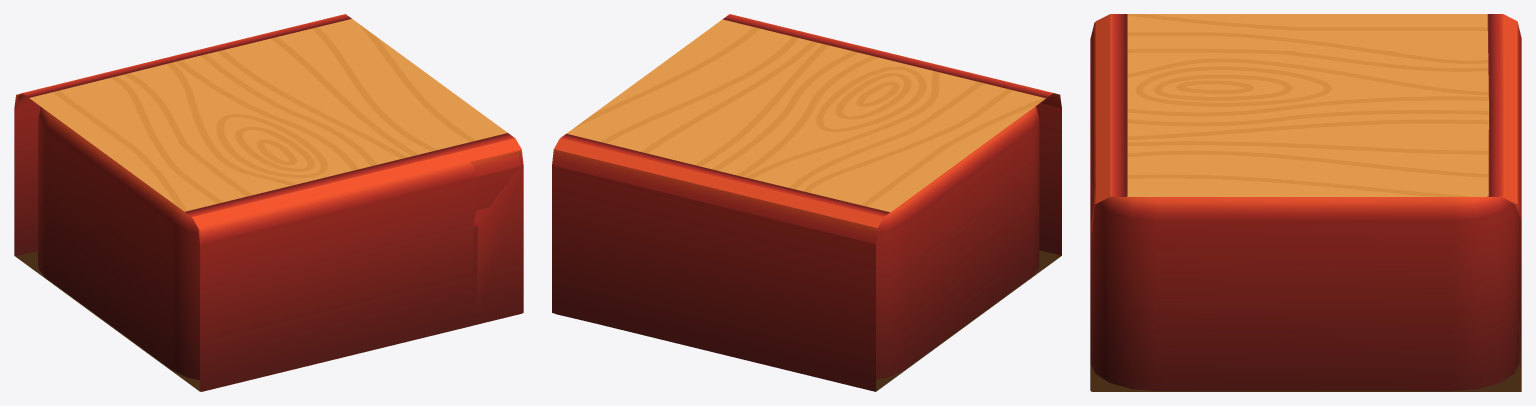
The model's file is Moveable_Blocks_Straight.fbx.
3 views of the same model, side by side, from view 1: azimuth 30°, elevation 25°; view 2: azimuth 150°, elevation 25°; view 3: azimuth 270°, elevation 25° (orthographic). The views are drawn at different scales.
Parts seen in each view (by area): view 1: WoodenLong_Mid, WoodenLong_Right, WoodenLong_Left; view 2: WoodenLong_Mid, WoodenLong_Left; view 3: WoodenLong_Right, WoodenLong_Mid, WoodenLong_Left.
Part boxes in pixels (left/top/right/bottom): WoodenLong_Mid: left=14, top=14, right=523, bottom=391; WoodenLong_Right: left=16, top=94, right=476, bottom=391; WoodenLong_Left: left=38, top=107, right=522, bottom=380; WoodenLong_Mid: left=552, top=14, right=1061, bottom=391; WoodenLong_Left: left=556, top=106, right=1039, bottom=379; WoodenLong_Right: left=1090, top=22, right=1519, bottom=391; WoodenLong_Mid: left=1091, top=14, right=1521, bottom=391; WoodenLong_Left: left=1090, top=176, right=1521, bottom=390.
Bounding box in the file's own units: 112 × 55.83 × 112.
Materials: 1 (1 with a texture image).
